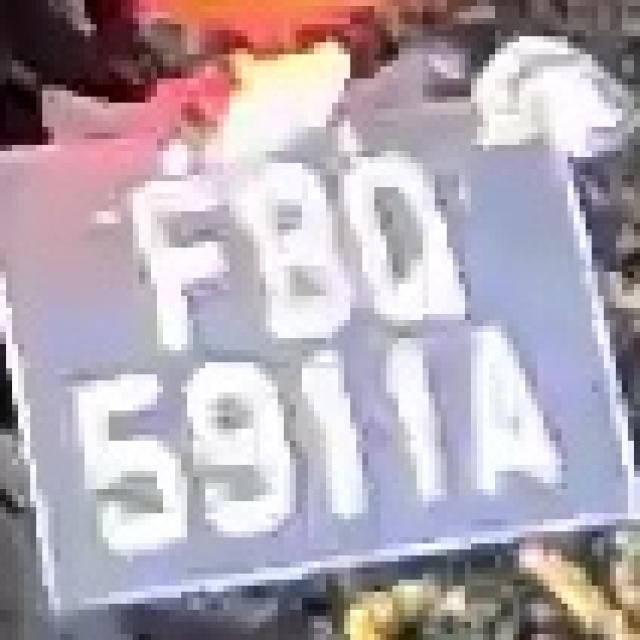1: (284, 332, 374, 556), (374, 302, 459, 531)
5: (66, 356, 188, 586)
9: (163, 344, 296, 544)
A: (434, 302, 580, 501)
B: (211, 157, 344, 350)
F: (115, 145, 223, 386)
Q: (326, 127, 465, 350)
